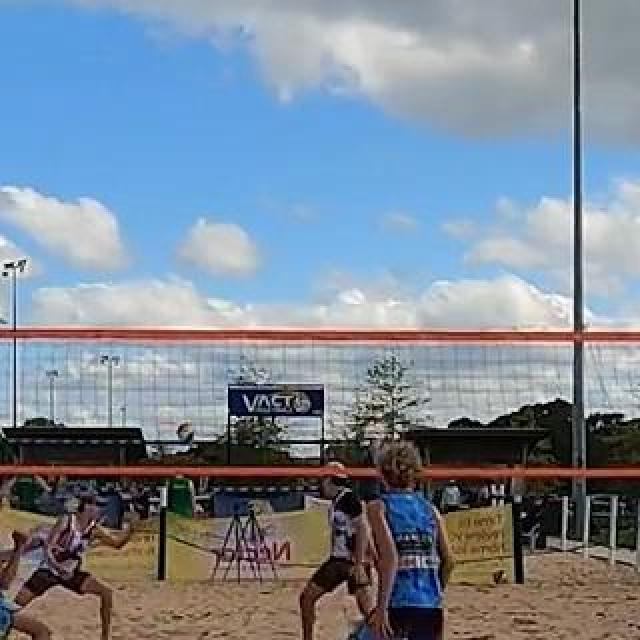volleyball: (178, 421, 194, 441), (493, 569, 509, 585)
